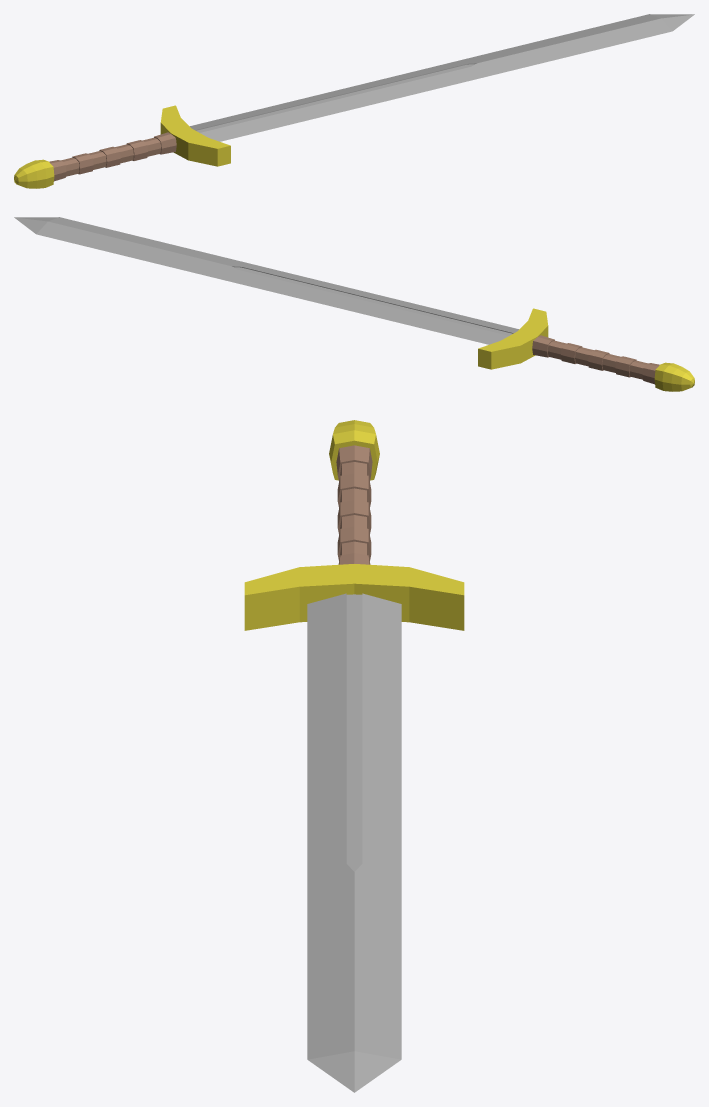
The model's file is Sword.glb.
The picture shows the model from 3 angles, top to bottom: view 1: azimuth 30°, elevation 25°; view 2: azimuth 150°, elevation 25°; view 3: azimuth 270°, elevation 25°; orthographic projection. The views are drawn at different scales.
Parts seen in each view (by area): view 1: Sword; view 2: Sword; view 3: Sword.
Boxes of the visible parts, x1,y1,x2,y2 form: Sword: (14,14,694,188); Sword: (14,217,694,391); Sword: (244,420,464,1092).
Size of the model in its own units: 1 by 0.0331 by 0.14.
